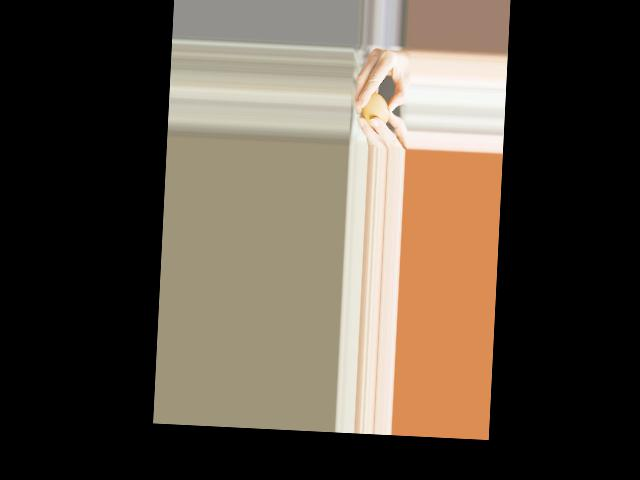egg: (360, 92, 390, 128)
